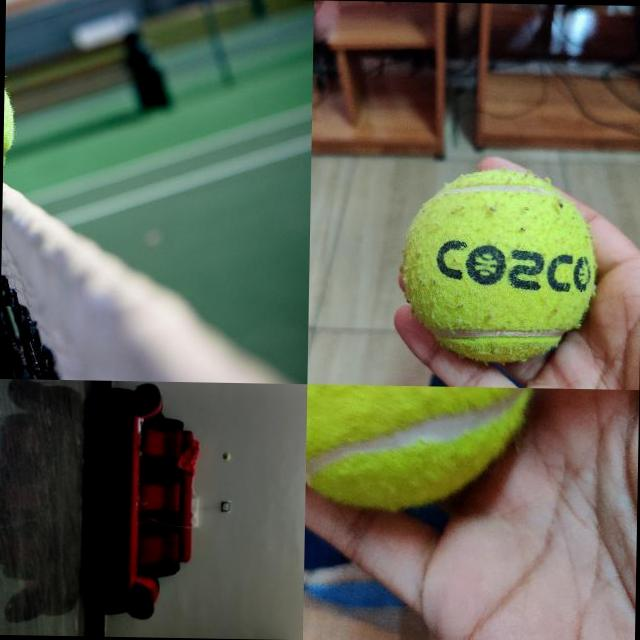Tennis Ball: (402, 165, 598, 362), (306, 384, 535, 509), (222, 452, 230, 460)
